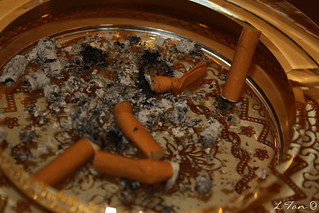cigarette: (218, 24, 263, 105), (29, 138, 96, 189), (92, 150, 179, 189), (111, 101, 166, 159), (141, 59, 212, 95)
